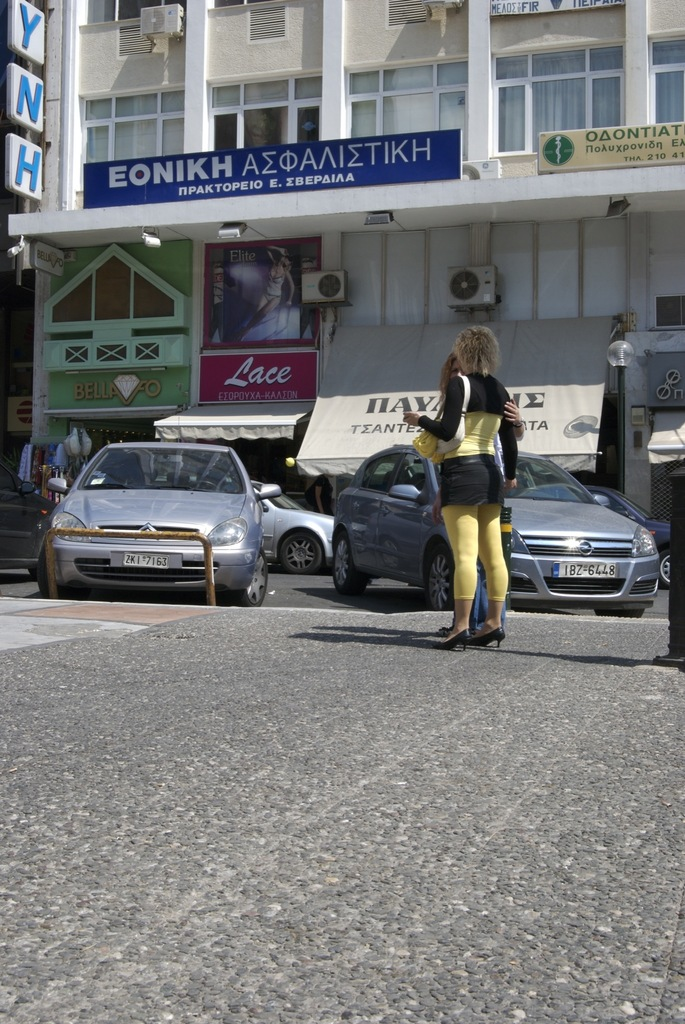cars: (320, 434, 657, 630), (32, 433, 291, 600), (513, 476, 678, 580), (248, 475, 332, 570), (0, 449, 49, 578)
